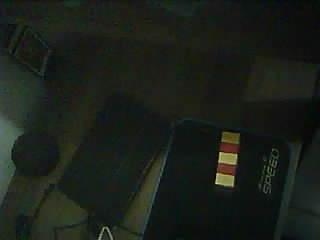lego: (214, 131, 241, 187)
